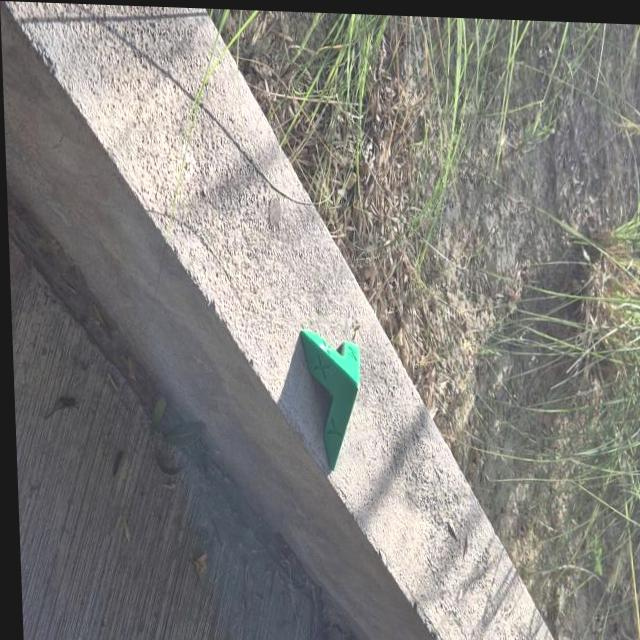eje: (299, 325, 366, 474)
